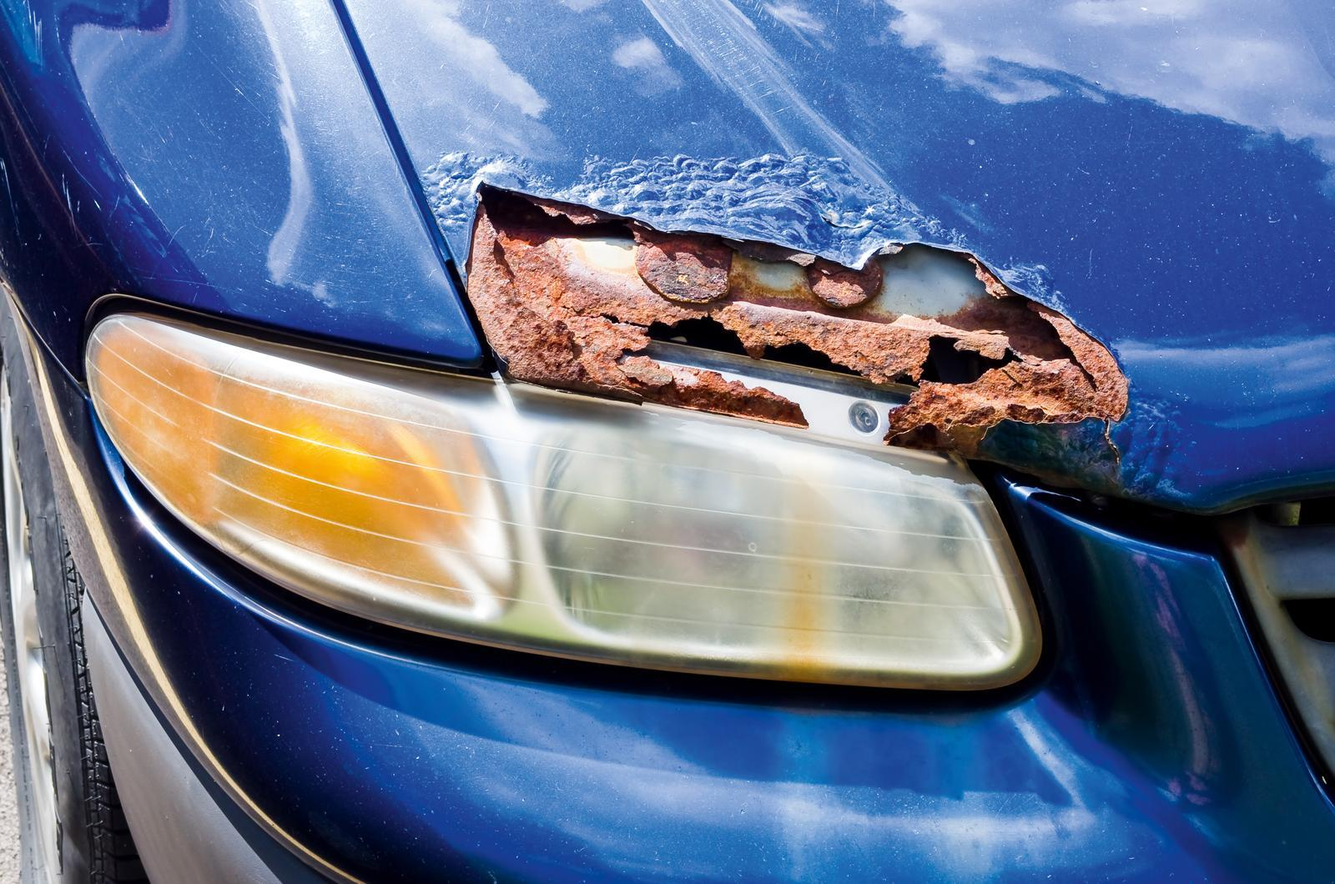corrosion: (467, 191, 1130, 457)
